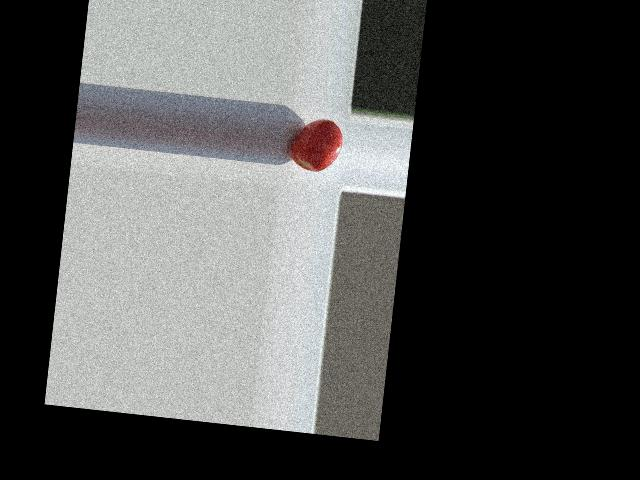tomato: (289, 115, 344, 173)
